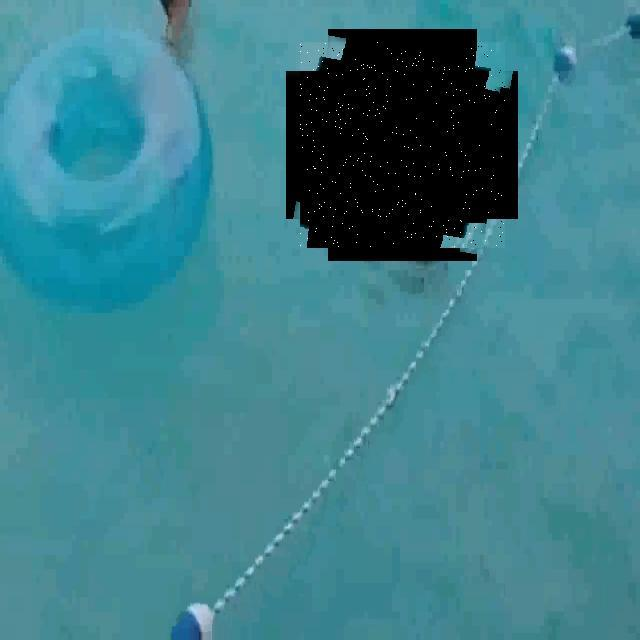Out of Water: (300, 42, 505, 248)
